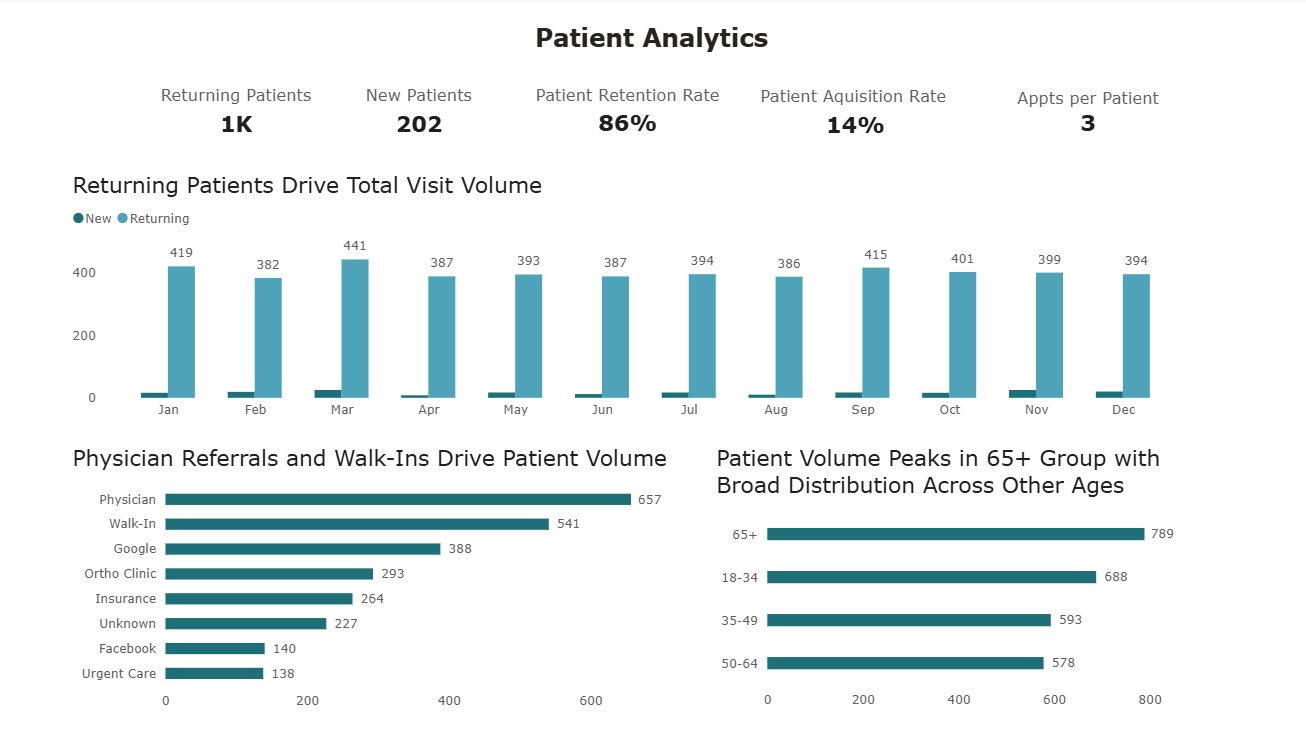

The page's visual inventory and layout, read from the dashboard file:
{"tool":"powerbi","page":{"name":"patients","canvas":[1280,720],"ordinal":4},"visuals":[{"type":"cardVisual","fields":{"Data":["appointments.Returning Patient %"]},"box":[496.1,62.6,241.2,97.5],"z":0,"group":"g1"},{"type":"clusteredBarChart","title":"Physician Referrals and Walk-Ins Drive Patient Volume","fields":{"Category":["patients.Referral Source Clean"],"Y":["appointments.Completed Appointments"]},"box":[53.8,416.7,628.2,303.8],"z":0},{"type":"cardVisual","fields":{"Data":["appointments.New Patients"]},"box":[313.4,70.5,198,81.7],"z":1000,"group":"g1"},{"type":"barChart","title":"Patient Volume Peaks in 65+ Group with Broad Distribution Across Other Ages","fields":{"Category":["patients.Age Group"],"Y":["appointments.Completed Appointments"]},"box":[684,417.3,500,302.7],"z":1000},{"type":"cardVisual","fields":{"Data":["appointments.New Patient %"]},"box":[717.8,54.7,244,114.7],"z":2000,"group":"g1"},{"type":"clusteredColumnChart","title":"Returning Patients Drive Total Visit Volume","fields":{"Category":["appointments.Month"],"Y":["appointments.Appt Count"],"Series":["Patient Summary.Patient Type"]},"box":[53.8,150,1129.5,285.9],"z":2000},{"type":"textbox","box":[490,14.1,300,52.6],"z":3000},{"type":"cardVisual","fields":{"Data":["patients.Appointments per Patient"]},"box":[951.2,54.7,232.8,114.1],"z":3000,"group":"g1"},{"type":"group","id":"g1","title":"Group 1","box":[128,54.7,1056,114.7],"z":4000},{"type":"cardVisual","fields":{"Data":["appointments.Returning Patients"]},"box":[128,67.9,211.9,87],"z":4000,"group":"g1"}]}

Visuals, with their boxes in screenshot pixels (x1, y1, x2, y2), scaled from the page's 1280x720 canvas onto the 1306x732 screenshot:
cardVisual - appointments.Returning Patient %: box(506, 64, 752, 163)
"Physician Referrals and Walk-Ins Drive Patient Volume" clusteredBarChart: box(55, 424, 696, 731)
cardVisual - appointments.New Patients: box(320, 72, 522, 155)
"Patient Volume Peaks in 65+ Group with Broad Distribution Across Other Ages" barChart: box(698, 424, 1208, 731)
cardVisual - appointments.New Patient %: box(732, 56, 981, 172)
"Returning Patients Drive Total Visit Volume" clusteredColumnChart: box(55, 152, 1207, 443)
textbox: box(500, 14, 806, 68)
cardVisual - patients.Appointments per Patient: box(971, 56, 1208, 172)
"Group 1" group: box(131, 56, 1208, 172)
cardVisual - appointments.Returning Patients: box(131, 69, 347, 157)
